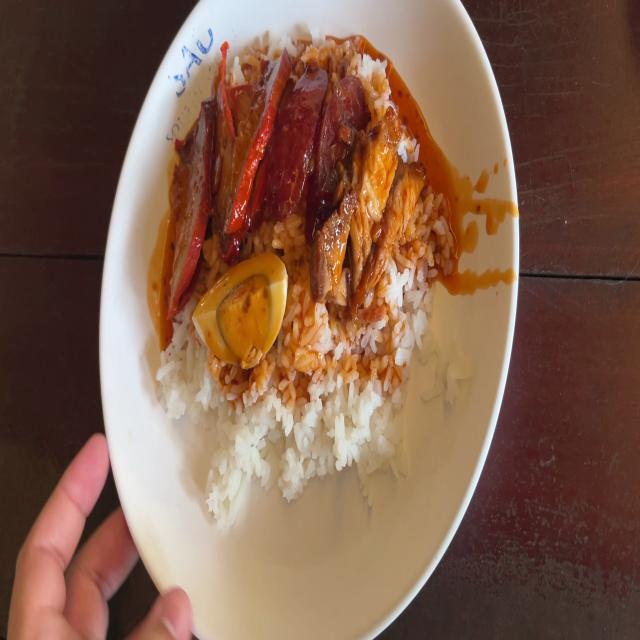red_pork_and_crispy_pork: (201, 262, 287, 356)
stir_fried_basil: (270, 73, 356, 215)
